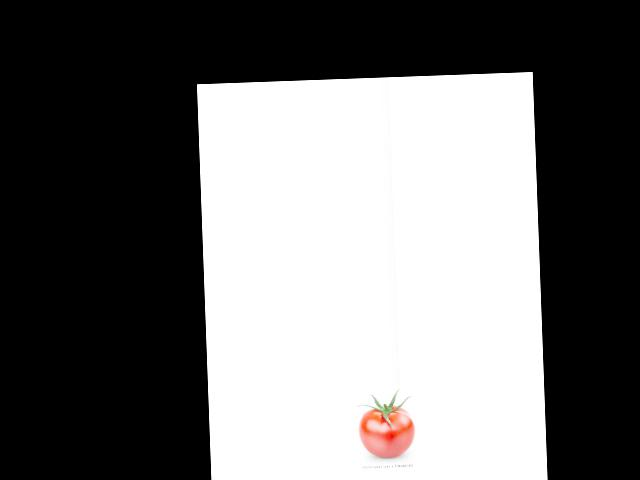tomato: (358, 405, 416, 458)
